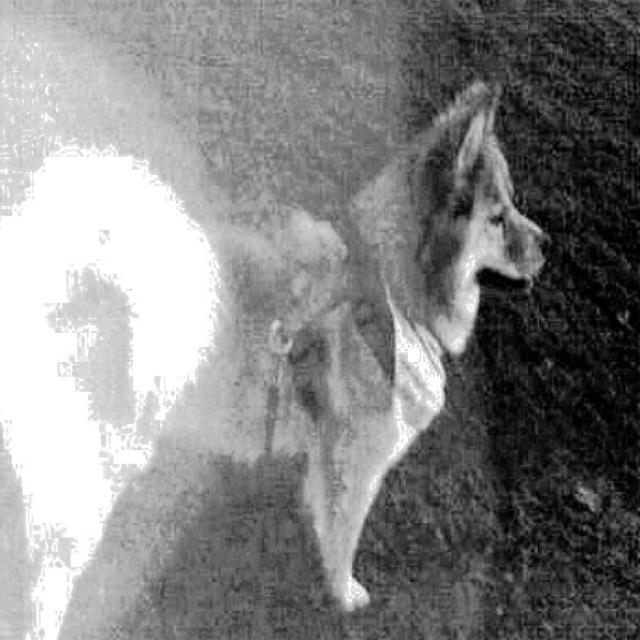Dog: (0, 74, 599, 640)
